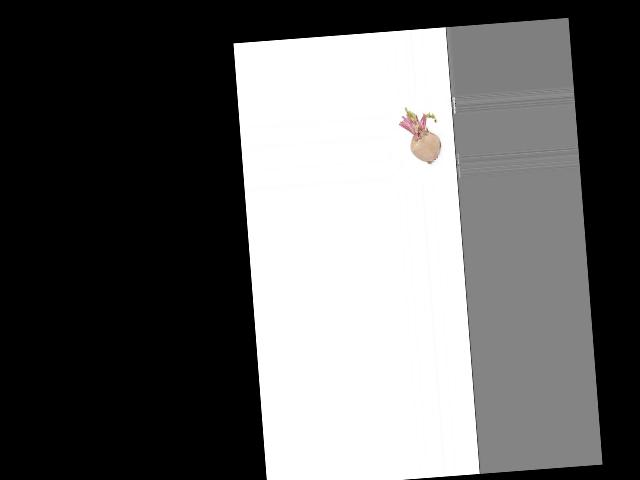beet: (397, 105, 442, 166)
